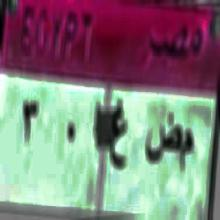0: (64, 112, 80, 160)
3: (22, 92, 40, 158)
daad: (142, 104, 180, 172)
ghayn: (108, 87, 129, 183)
meem: (182, 126, 195, 184)
